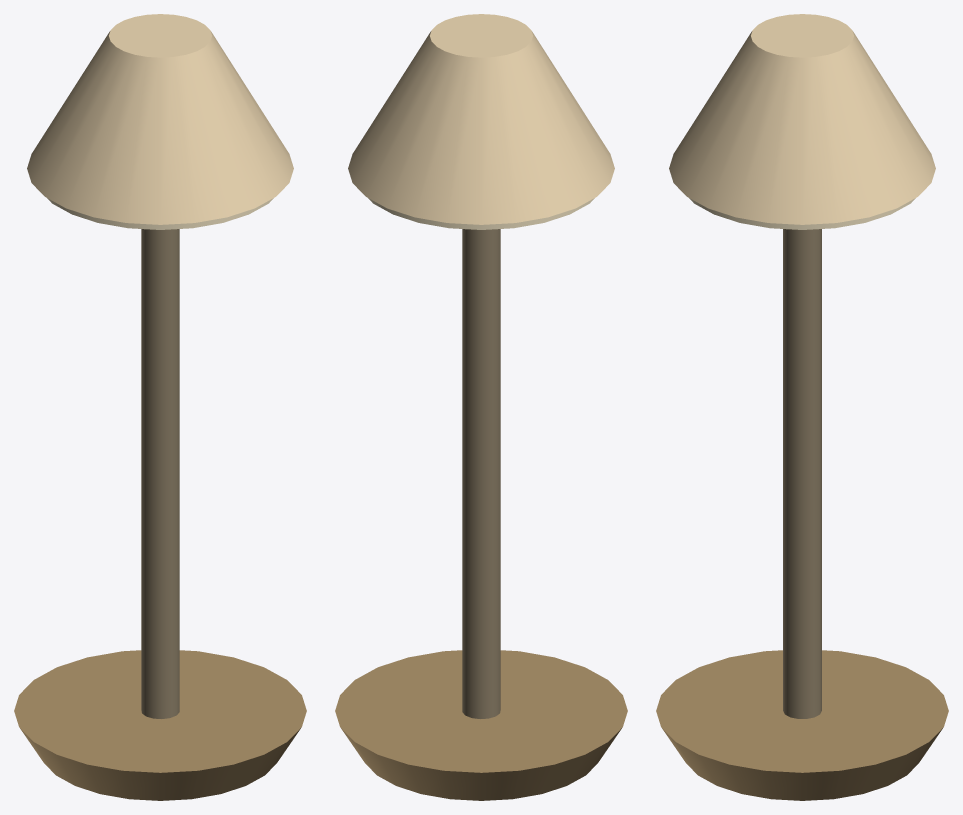
Rendered from floor-lamp.glb.
The picture shows the model from 3 angles, left to right: view 1: azimuth 30°, elevation 25°; view 2: azimuth 150°, elevation 25°; view 3: azimuth 270°, elevation 25°; orthographic projection.
Parts seen in each view (by area): view 1: floor-lamp; view 2: floor-lamp; view 3: floor-lamp.
Part boxes in pixels (x1=…): floor-lamp: x1=14, y1=14, x2=306, y2=800; floor-lamp: x1=335, y1=14, x2=627, y2=800; floor-lamp: x1=656, y1=14, x2=948, y2=800.
Size of the model in its own units: 0.68 by 1.83 by 0.68.
